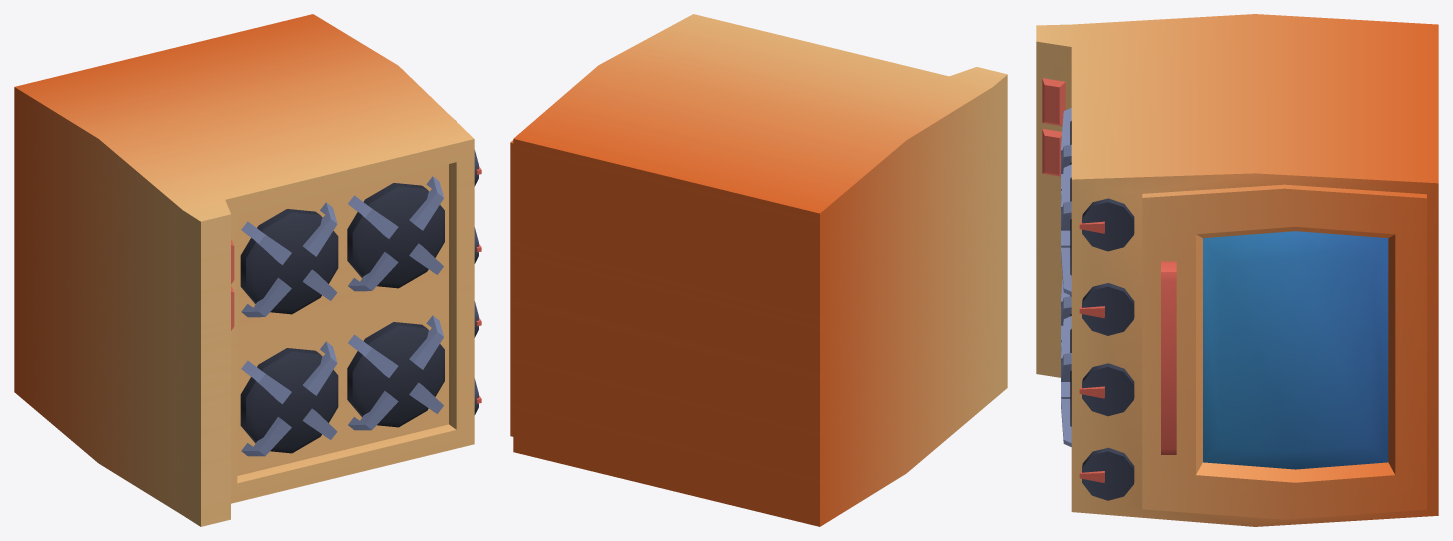
The model's file is Stove.fbx.
3 renders of one model, left to right at view 1: azimuth 30°, elevation 25°; view 2: azimuth 150°, elevation 25°; view 3: azimuth 270°, elevation 25°, orthographic. The views are drawn at different scales.
Parts seen in each view (by area): view 1: Stove; view 2: Stove; view 3: Stove.
Part boxes in pixels (box(x1,y1,x2,y2)): Stove: box(14, 14, 481, 526); Stove: box(510, 14, 1007, 526); Stove: box(1036, 14, 1438, 526).
Size of the model in its own units: 111 by 106 by 109.
